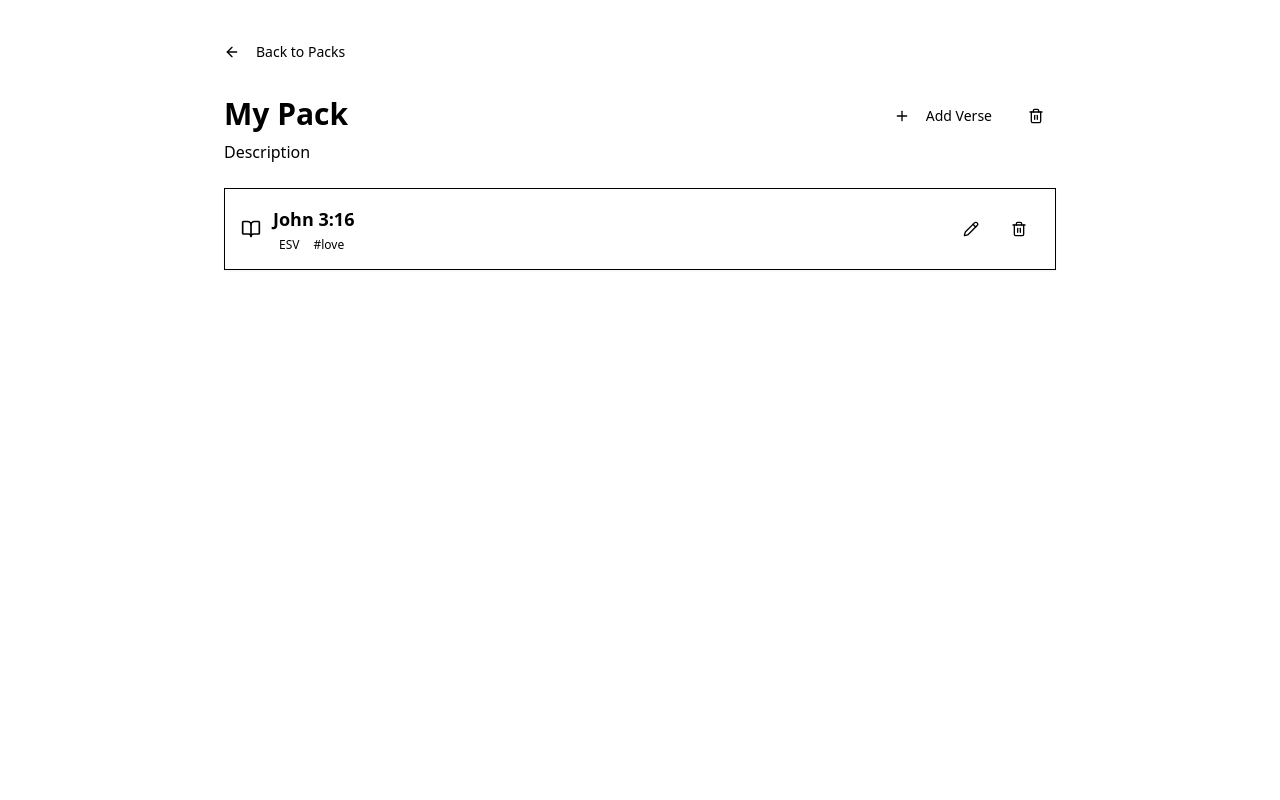
it: VersePackDetail Actions › manages tags
Check: the heading "My Pack" is shown, box [224,96,348,132]
Click the button "Add Verse" at (943, 116), box [878,96,1008,136]
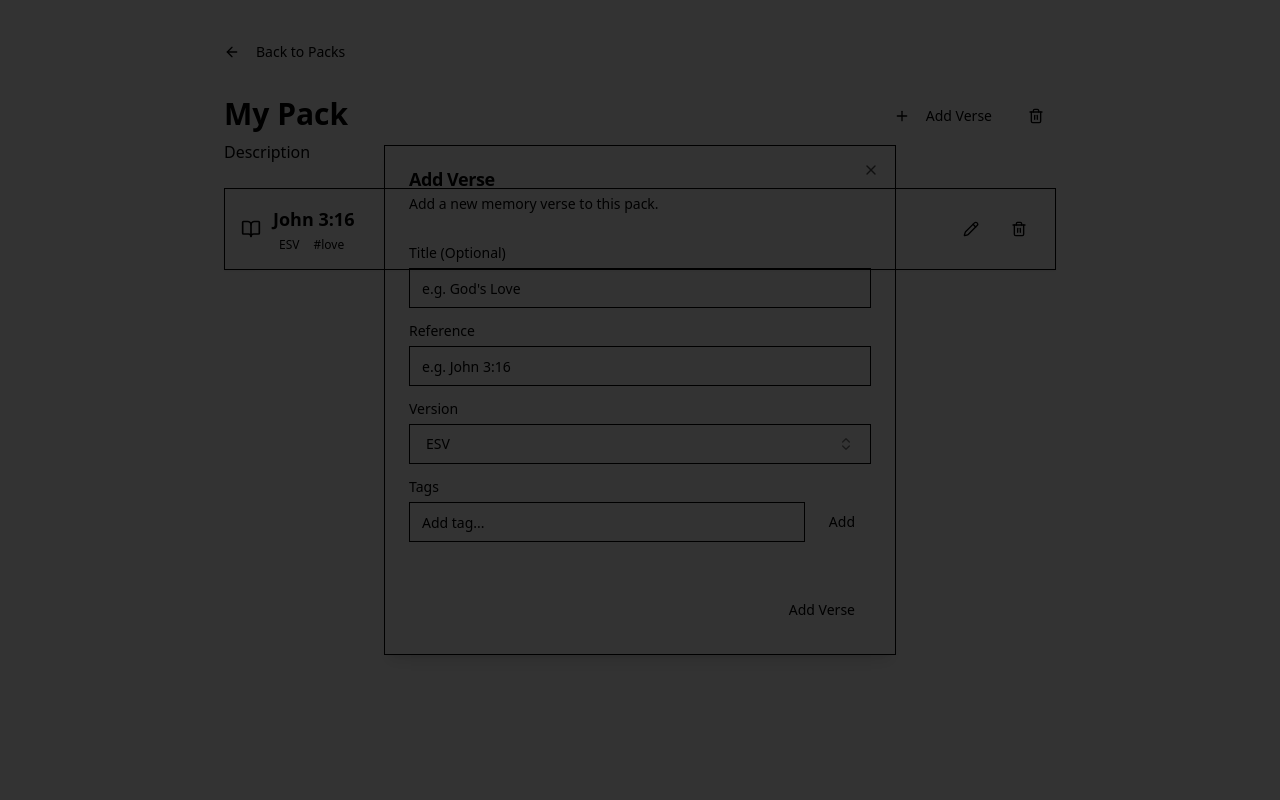
Type "hope" into the field with placeholder "Add tag..." at (607, 522), box [409,502,805,542]
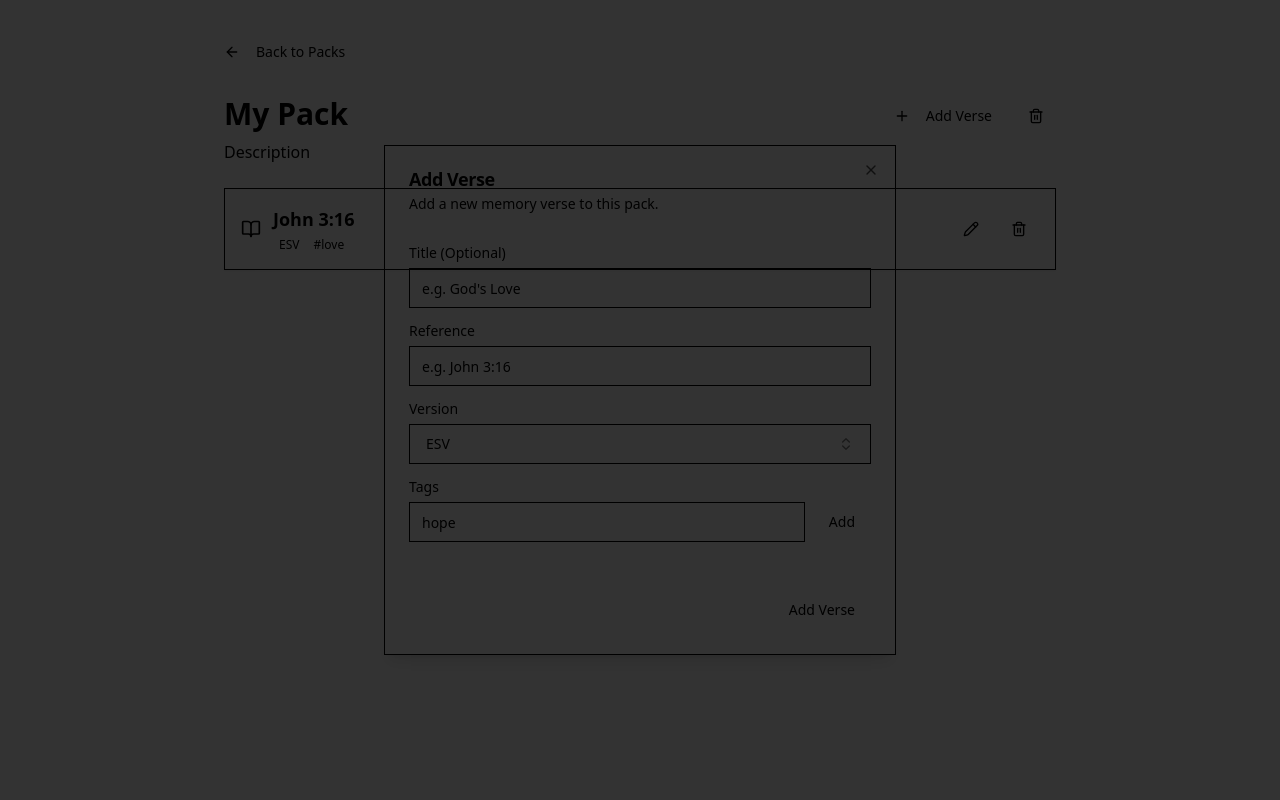
Click the button "Add" at (842, 522), box [813,502,871,542]
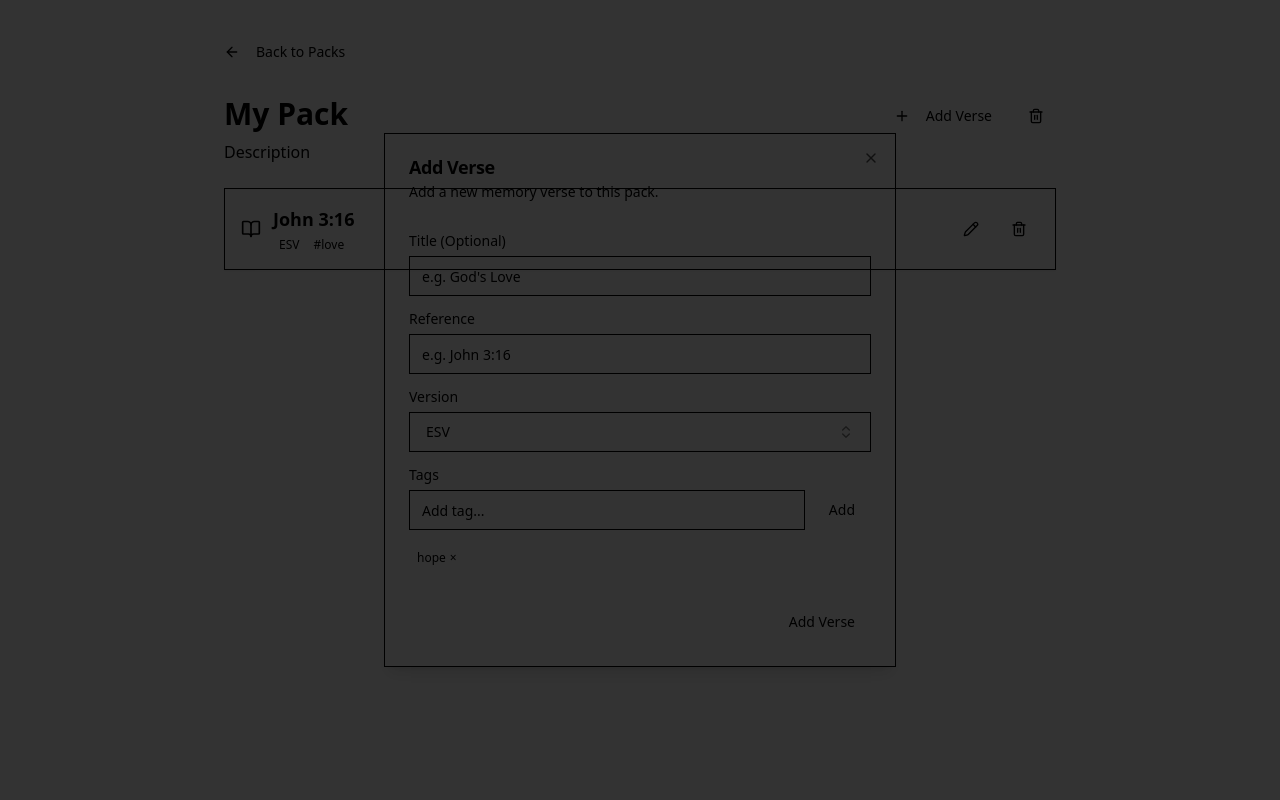
Check: the text "hope" is shown, box [417,549,446,566]
Click the button "×" at (453, 558), box [450,550,457,566]
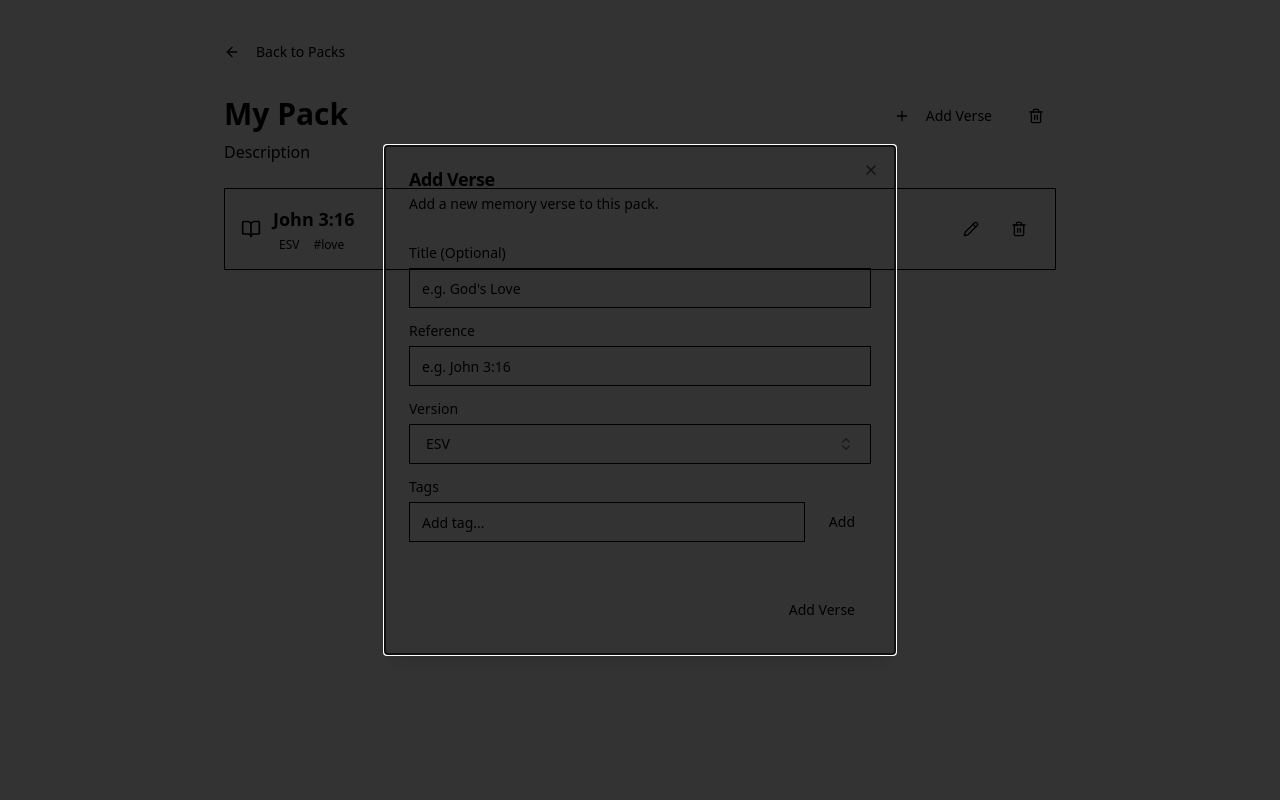
Check: the text "hope" is gone
